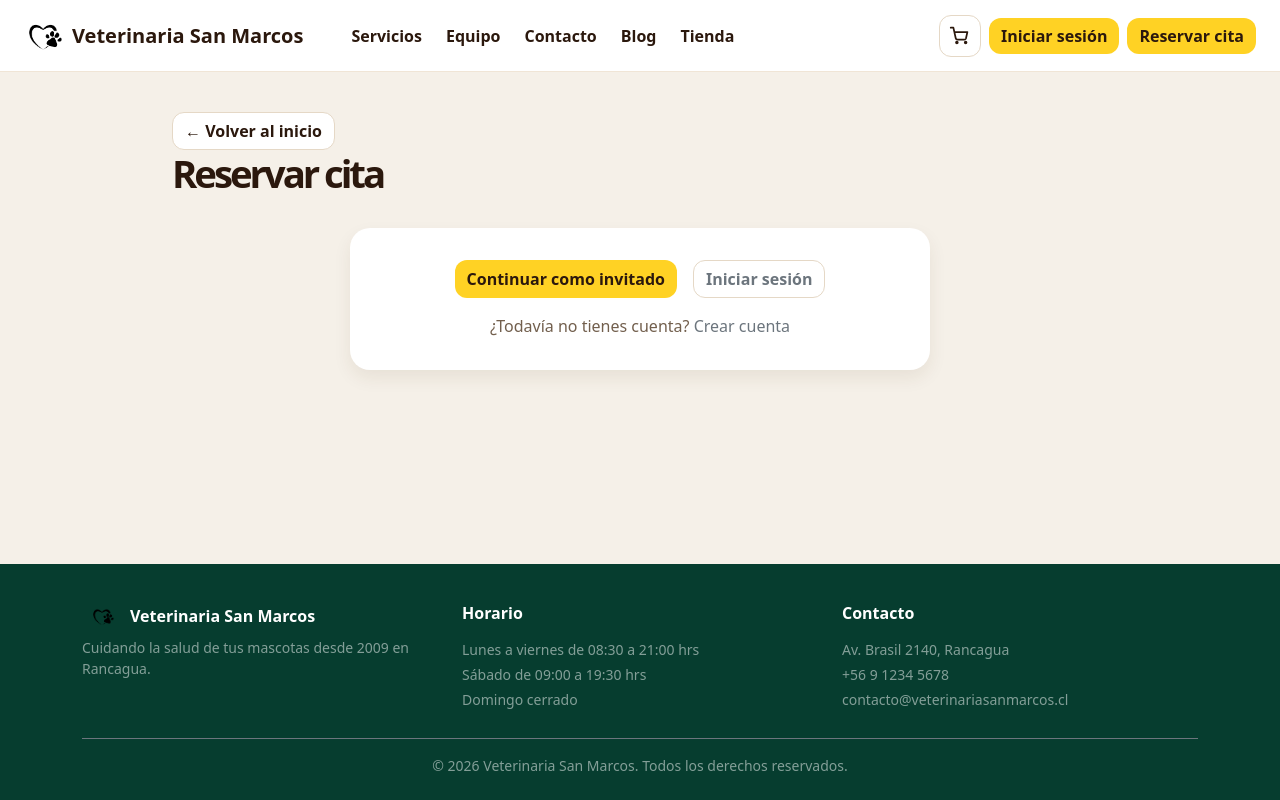
Test case: crear cuenta desde la reserva abre directamente el formulario de registro
Click the link "Crear cuenta". click: (742,326)
box: x1=694 y1=315 x2=790 y2=337
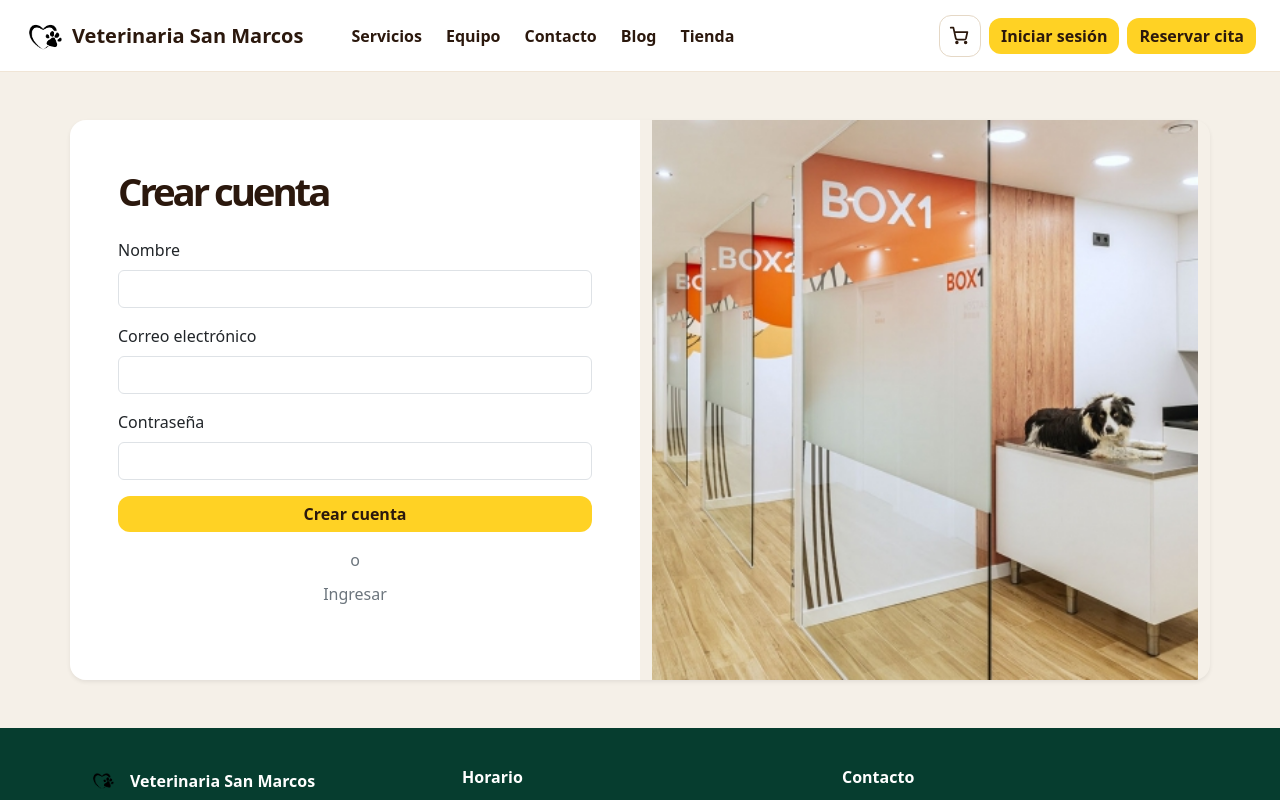
Expected: the heading "Crear cuenta" is shown, x1=118 y1=165 x2=328 y2=217
Expected: the field labelled "Nombre" is shown, x1=118 y1=270 x2=592 y2=308
